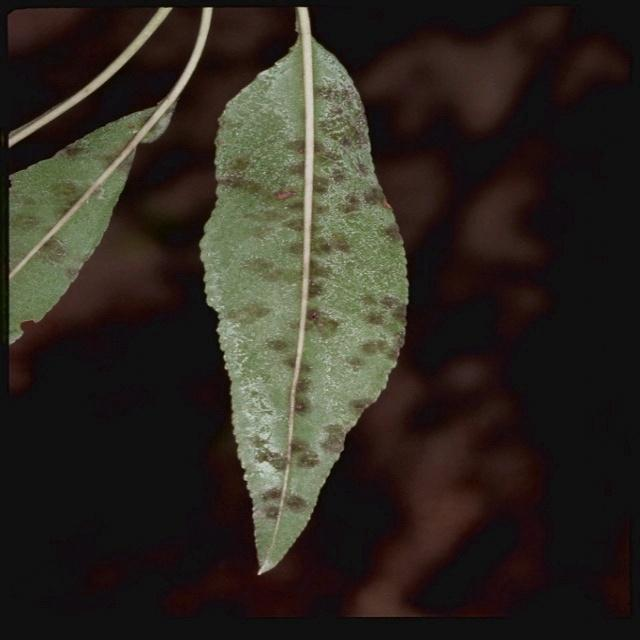leaf_spot: (200, 33, 414, 590)
